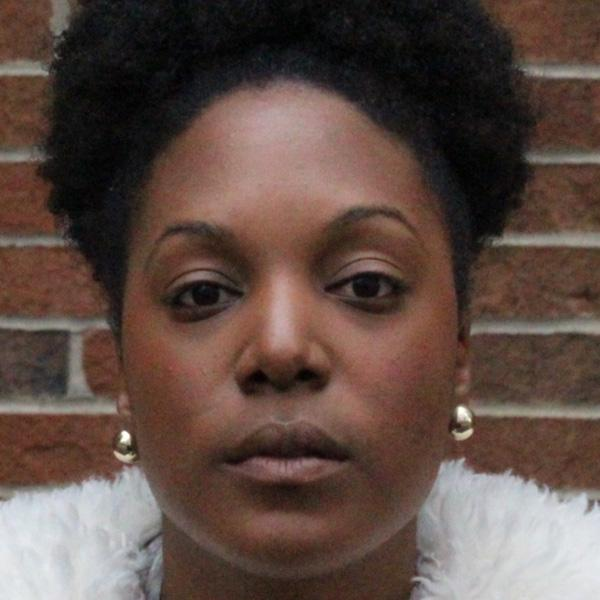Eyes: (154, 258, 250, 330), (319, 253, 412, 320)
